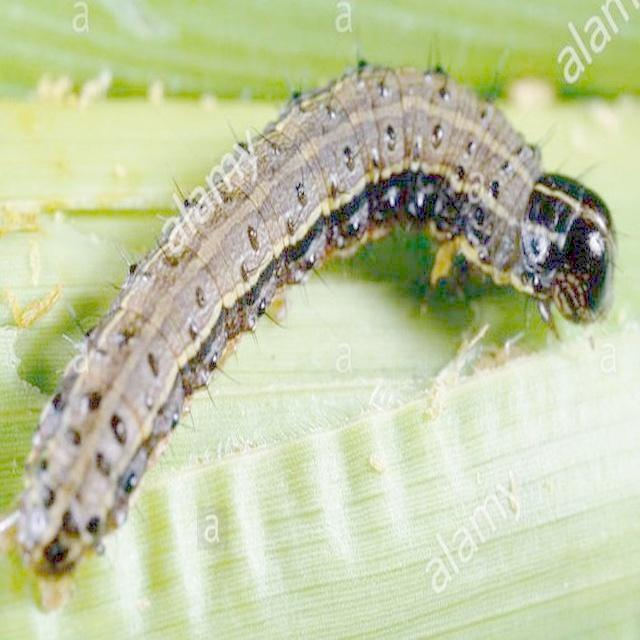worm: (1, 52, 621, 611)
